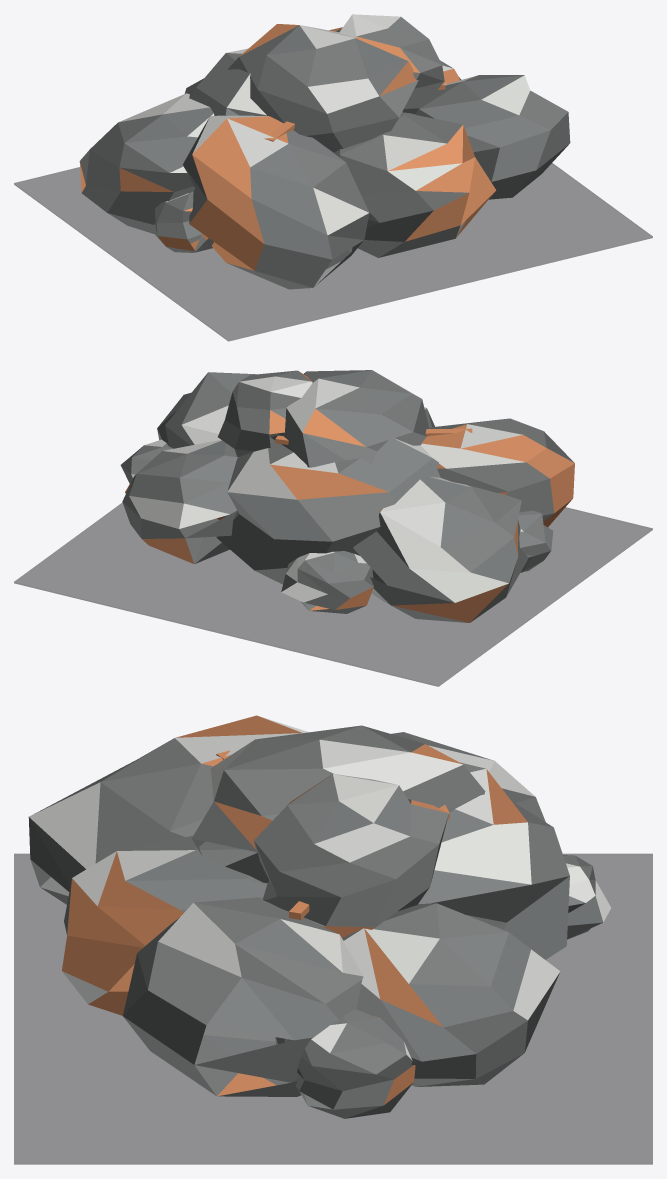
The model's file is pile_of_ore.glb.
3 views of the same model, one above another, from view 1: azimuth 30°, elevation 25°; view 2: azimuth 150°, elevation 25°; view 3: azimuth 270°, elevation 25° (orthographic). The views are drawn at different scales.
Parts seen in each view (by area): view 1: stack_shadow, ore_chunk_01, ore_chunk_07, ore_chunk_02, ore_chunk_04, ore_chunk_03, ore_chunk_08, ore_chunk_05, ore_chunk_09; view 2: stack_shadow, ore_chunk_04, ore_chunk_05, ore_chunk_07, ore_chunk_06, ore_chunk_01, ore_chunk_08, ore_chunk_11, ore_chunk_03, ore_chunk_09, ore_chunk_10; view 3: stack_shadow, ore_chunk_03, ore_chunk_06, ore_chunk_08, ore_chunk_01, ore_chunk_02, ore_chunk_07, ore_chunk_05, ore_chunk_10, ore_chunk_11, ore_chunk_04.
Boxes of the visible parts, left/top/right/bottom form: stack_shadow: left=14, top=163, right=652, bottom=341; ore_chunk_01: left=183, top=115, right=369, bottom=289; ore_chunk_07: left=227, top=24, right=418, bottom=152; ore_chunk_02: left=334, top=112, right=496, bottom=257; ore_chunk_04: left=79, top=93, right=214, bottom=234; ore_chunk_03: left=415, top=75, right=570, bottom=199; ore_chunk_08: left=329, top=14, right=444, bottom=114; ore_chunk_05: left=184, top=48, right=266, bottom=115; ore_chunk_09: left=155, top=191, right=213, bottom=252; stack_shadow: left=14, top=502, right=652, bottom=686; ore_chunk_04: left=353, top=476, right=527, bottom=622; ore_chunk_05: left=216, top=435, right=440, bottom=584; ore_chunk_07: left=269, top=370, right=429, bottom=467; ore_chunk_06: left=122, top=440, right=238, bottom=564; ore_chunk_01: left=421, top=418, right=574, bottom=527; ore_chunk_08: left=218, top=370, right=312, bottom=456; ore_chunk_11: left=281, top=551, right=373, bottom=613; ore_chunk_03: left=157, top=372, right=255, bottom=519; ore_chunk_09: left=518, top=510, right=553, bottom=572; ore_chunk_10: left=120, top=439, right=173, bottom=493; stack_shadow: left=14, top=853, right=652, bottom=1164; ore_chunk_03: left=123, top=897, right=363, bottom=1096; ore_chunk_06: left=342, top=903, right=560, bottom=1086; ore_chunk_08: left=254, top=774, right=448, bottom=938; ore_chunk_01: left=28, top=715, right=308, bottom=904; ore_chunk_02: left=62, top=836, right=267, bottom=1015; ore_chunk_07: left=192, top=725, right=485, bottom=883; ore_chunk_05: left=418, top=762, right=569, bottom=959; ore_chunk_10: left=275, top=1009, right=415, bottom=1118; ore_chunk_11: left=563, top=855, right=611, bottom=939; ore_chunk_04: left=391, top=732, right=545, bottom=822.
Bounding box in the file's own units: 0.56 × 0.2157 × 0.49.
